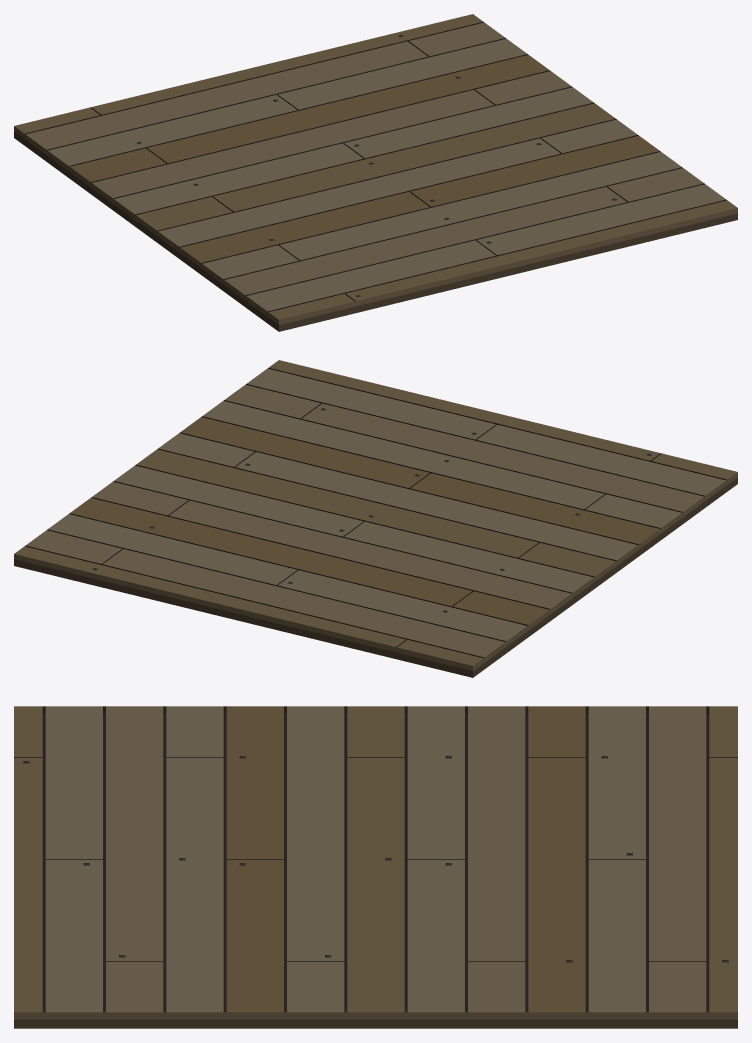
The model's file is boardwalk-plank-tile-678e52.glb.
3 views of the same model, one above another, from view 1: azimuth 30°, elevation 25°; view 2: azimuth 150°, elevation 25°; view 3: azimuth 270°, elevation 25° (orthographic). The views are drawn at different scales.
Parts seen in each view (by area): view 1: boardwalk-plank-tile-mesh; view 2: boardwalk-plank-tile-mesh; view 3: boardwalk-plank-tile-mesh.
Boxes of the visible parts, left/top/right/bottom form: boardwalk-plank-tile-mesh: left=14, top=14, right=737, bottom=331; boardwalk-plank-tile-mesh: left=14, top=360, right=737, bottom=677; boardwalk-plank-tile-mesh: left=14, top=706, right=737, bottom=1028.
Size of the model in its own units: 2 by 0.054 by 2.
